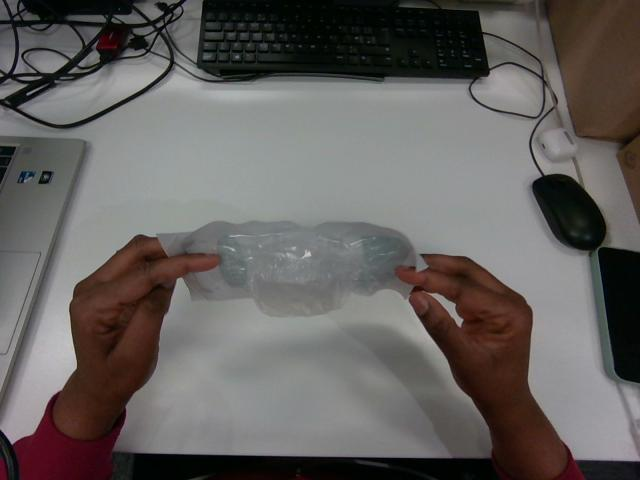gallipot: (158, 221, 415, 316)
